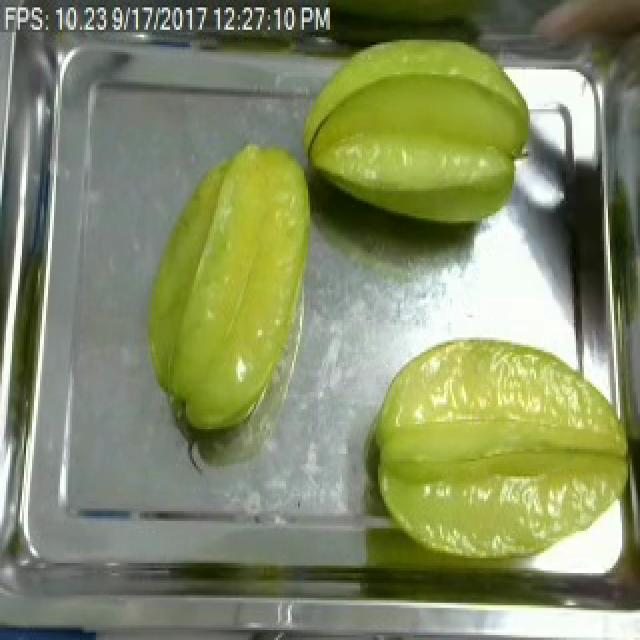fruit: (356, 320, 640, 573), (132, 134, 328, 446), (290, 19, 542, 240)
